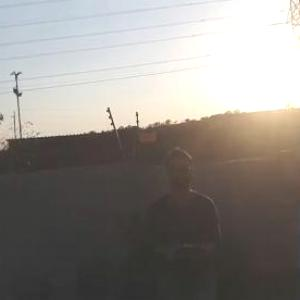follow: (140, 135, 225, 299)
